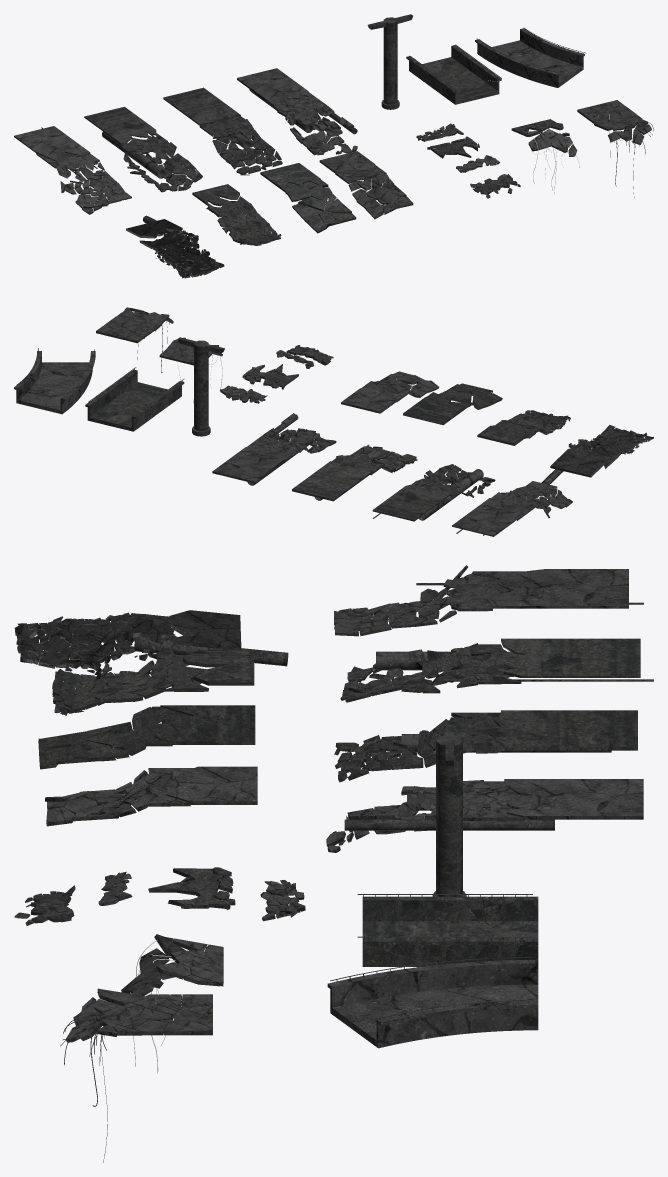
Rendered from Bridges.fbx.
The picture shows the model from 3 angles, top to bottom: view 1: azimuth 30°, elevation 25°; view 2: azimuth 150°, elevation 25°; view 3: azimuth 270°, elevation 25°; orthographic projection. The views are drawn at different scales.
Visible parts, largest first — view 1: street_4, street_1, street_2, street_3, Line143, Line142, street_8, street_7, street_013, street_5, Cylinder108, Object027 (+7 smaller); view 2: Line142, street_2, Line143, street_1, street_4, street_3, street_013, street_8, street_7, street_5, Cylinder108, Object027 (+6 smaller); view 3: Line143, Line142, street_4, street_3, street_1, street_2, street_013, street_8, street_7, street_5, Cylinder108, Object027 (+9 smaller).
Boxes of the visible parts, left/top/right/bottom form: street_4: left=163, top=87, right=282, bottom=175; street_1: left=14, top=126, right=131, bottom=214; street_2: left=237, top=68, right=357, bottom=155; street_3: left=84, top=106, right=202, bottom=192; Line143: left=475, top=28, right=584, bottom=87; Line142: left=406, top=45, right=501, bottom=104; street_8: left=260, top=163, right=356, bottom=233; street_7: left=319, top=151, right=413, bottom=219; street_013: left=126, top=219, right=224, bottom=278; street_5: left=192, top=184, right=281, bottom=245; Cylinder108: left=367, top=14, right=412, bottom=109; Object027: left=577, top=100, right=635, bottom=123; Line142: left=85, top=369, right=184, bottom=431; street_2: left=212, top=413, right=336, bottom=483; Line143: left=14, top=351, right=95, bottom=414; street_1: left=452, top=481, right=572, bottom=536; street_4: left=292, top=444, right=417, bottom=501; street_3: left=372, top=464, right=495, bottom=521; street_013: left=550, top=425, right=653, bottom=477; street_8: left=403, top=383, right=502, bottom=425; street_7: left=341, top=371, right=439, bottom=413; street_5: left=477, top=410, right=570, bottom=445; Cylinder108: left=177, top=337, right=224, bottom=436; Object027: left=96, top=313, right=154, bottom=343; Line143: left=327, top=959, right=538, bottom=1048; Line142: left=362, top=896, right=538, bottom=966; street_4: left=334, top=710, right=637, bottom=782; street_3: left=340, top=638, right=640, bottom=702; street_1: left=334, top=565, right=628, bottom=636; street_2: left=326, top=779, right=643, bottom=852; street_013: left=14, top=610, right=241, bottom=675; street_8: left=38, top=705, right=255, bottom=769; street_7: left=45, top=766, right=257, bottom=826; street_5: left=52, top=649, right=254, bottom=715; Cylinder108: left=432, top=720, right=466, bottom=896; Object027: left=116, top=994, right=212, bottom=1035.
Bounding box in the file's own units: 374377 × 104895 × 215681.
